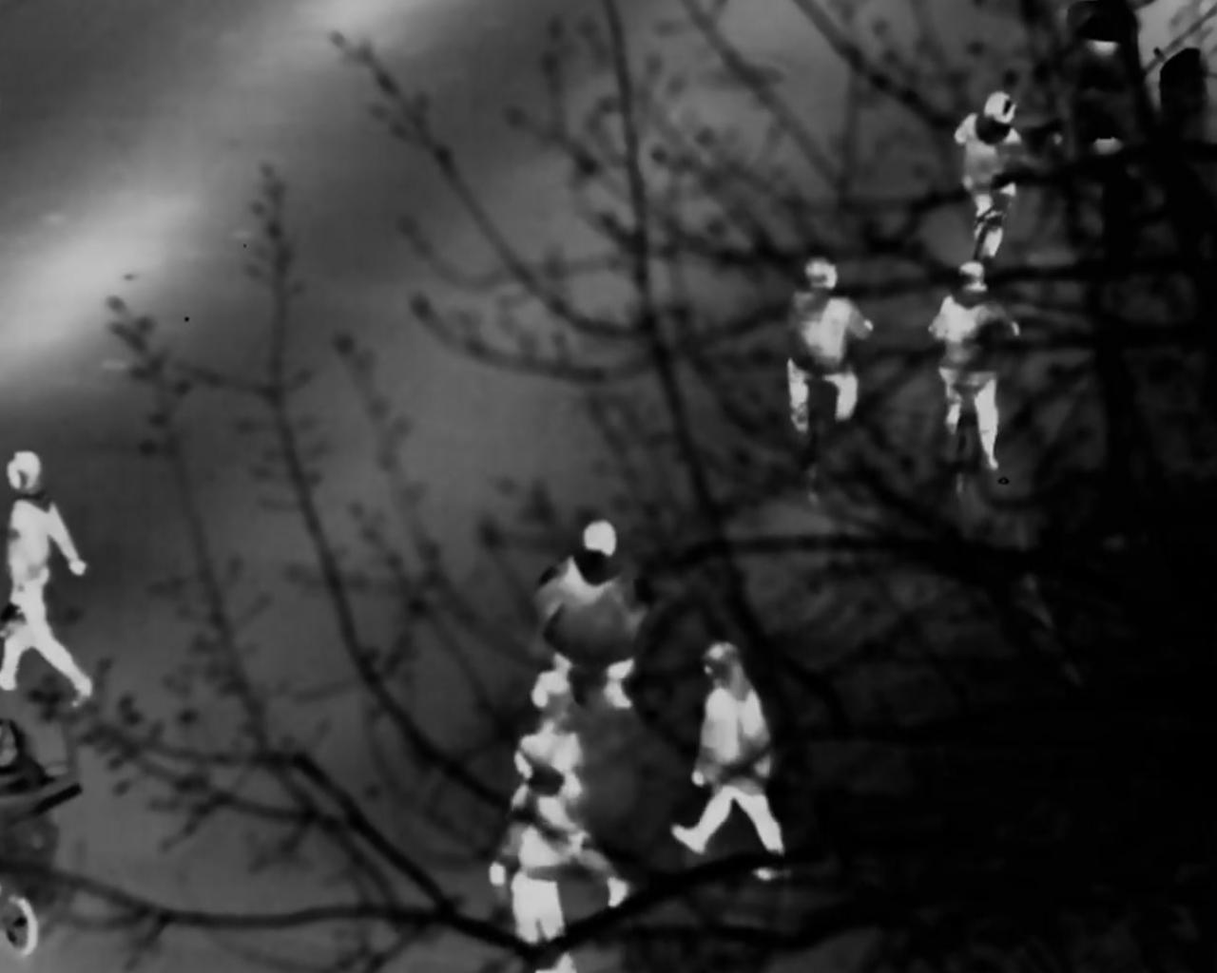person: (681, 640, 793, 885), (541, 516, 641, 715), (929, 260, 1006, 474), (501, 728, 573, 955), (778, 254, 870, 430), (947, 84, 1032, 255)
